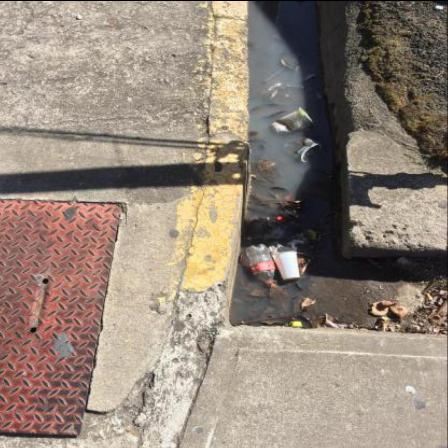Bottle: (248, 245, 278, 289)
Bottle cap: (279, 217, 289, 223), (292, 322, 304, 326)
Cigarette: (428, 294, 434, 300)
Cup: (271, 108, 315, 136), (284, 137, 322, 163), (273, 252, 302, 281)
Lid: (282, 57, 300, 71)
Plastic bag - wrapper: (249, 220, 311, 256)
Straw: (265, 66, 287, 82)
